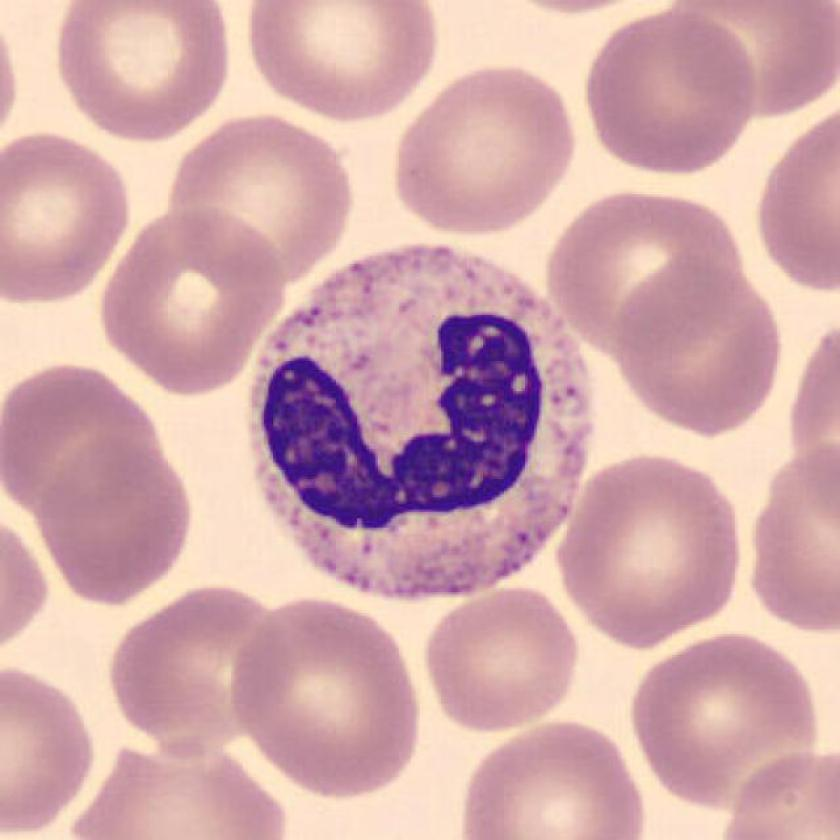neutrophil: (248, 248, 590, 598)
